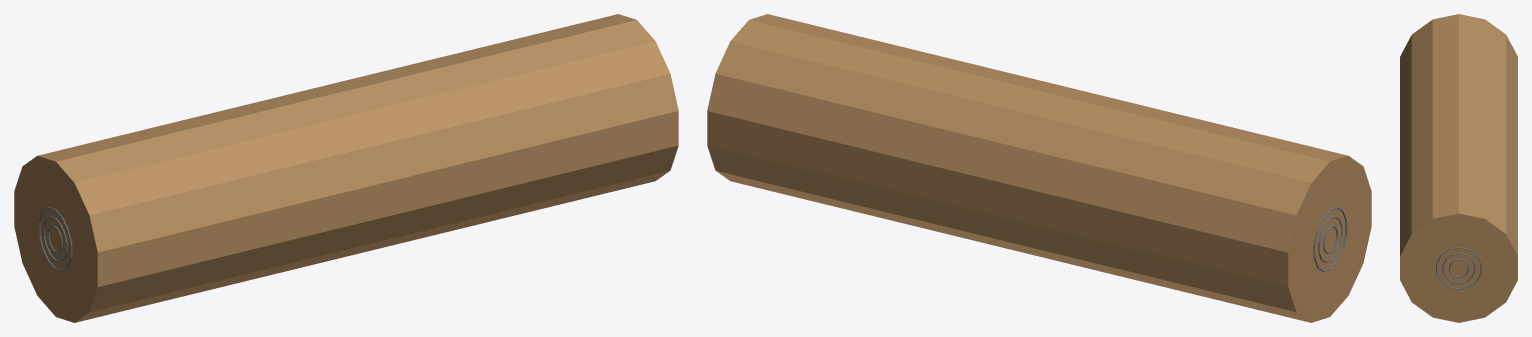
The model's file is log.glb.
The picture shows the model from 3 angles, left to right: view 1: azimuth 30°, elevation 25°; view 2: azimuth 150°, elevation 25°; view 3: azimuth 270°, elevation 25°; orthographic projection. The views are drawn at different scales.
Parts seen in each view (by area): view 1: ForgeCore item; view 2: ForgeCore item; view 3: ForgeCore item.
Part boxes in pixels (x1,y1,x2,y2): ForgeCore item: [14, 14, 678, 322]; ForgeCore item: [707, 14, 1371, 322]; ForgeCore item: [1400, 14, 1517, 322].
Bounding box in the file's own units: 1.81 × 0.46 × 0.4485.
